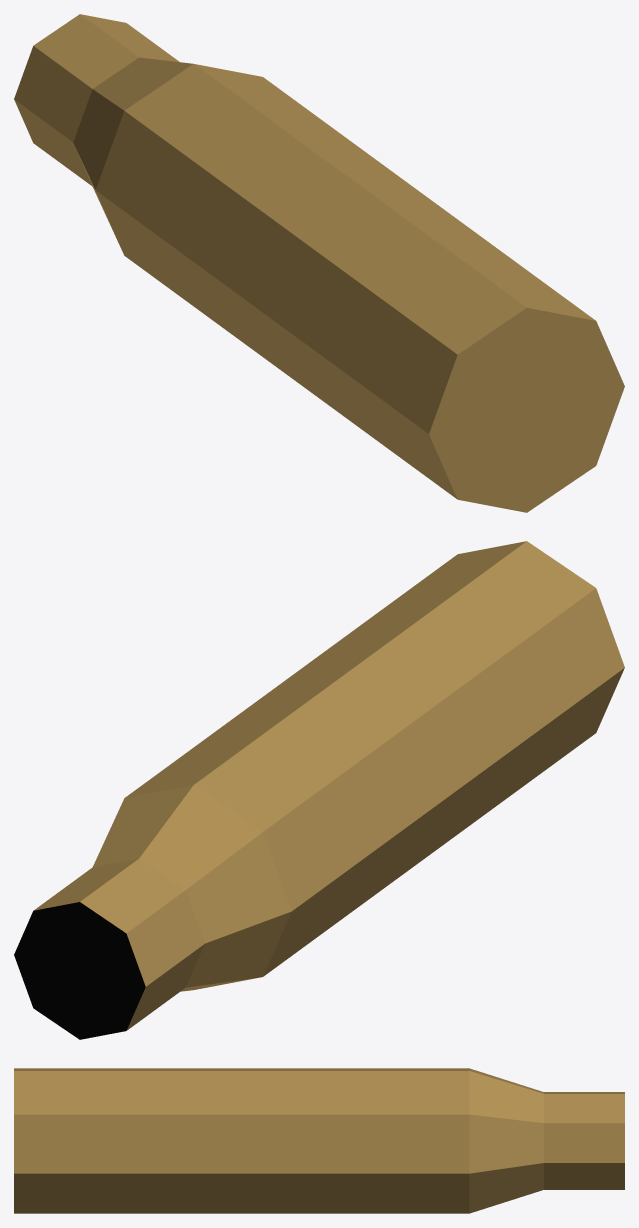
Rendered from Ak sleeve 1.fbx.
3 renders of one model, top to bottom at view 1: azimuth 30°, elevation 25°; view 2: azimuth 150°, elevation 25°; view 3: azimuth 270°, elevation 25°, orthographic. The views are drawn at different scales.
Parts seen in each view (by area): view 1: Cube; view 2: Cube; view 3: Cube.
Boxes of the visible parts, bbox=[...] form: Cube: bbox=[14, 14, 624, 512]; Cube: bbox=[14, 541, 624, 1039]; Cube: bbox=[14, 1068, 624, 1213].
Size of the model in its own units: 200 by 200 by 790.
1 material, 1 textured.
